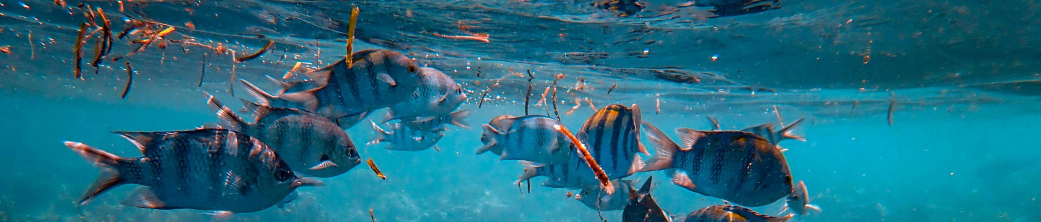fishRound: (62, 124, 302, 211), (197, 88, 362, 178), (638, 121, 795, 207), (276, 46, 426, 116), (569, 101, 650, 193), (379, 64, 467, 124), (478, 112, 577, 162), (365, 116, 448, 150), (574, 174, 657, 208), (514, 157, 577, 188), (742, 115, 809, 144), (398, 109, 475, 133), (479, 112, 521, 153)
